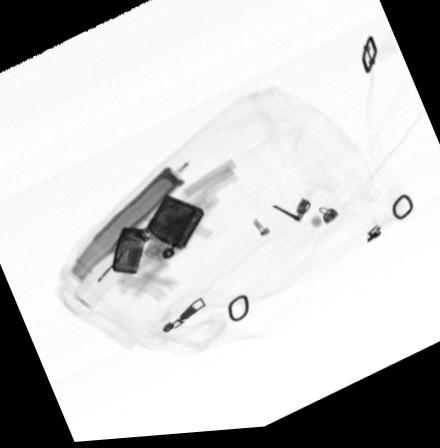Lighter: (109, 196, 204, 277)
